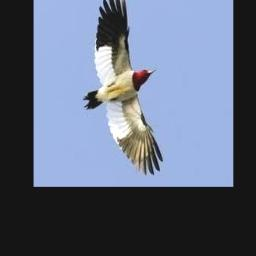Woodpecker: (83, 0, 162, 175)
